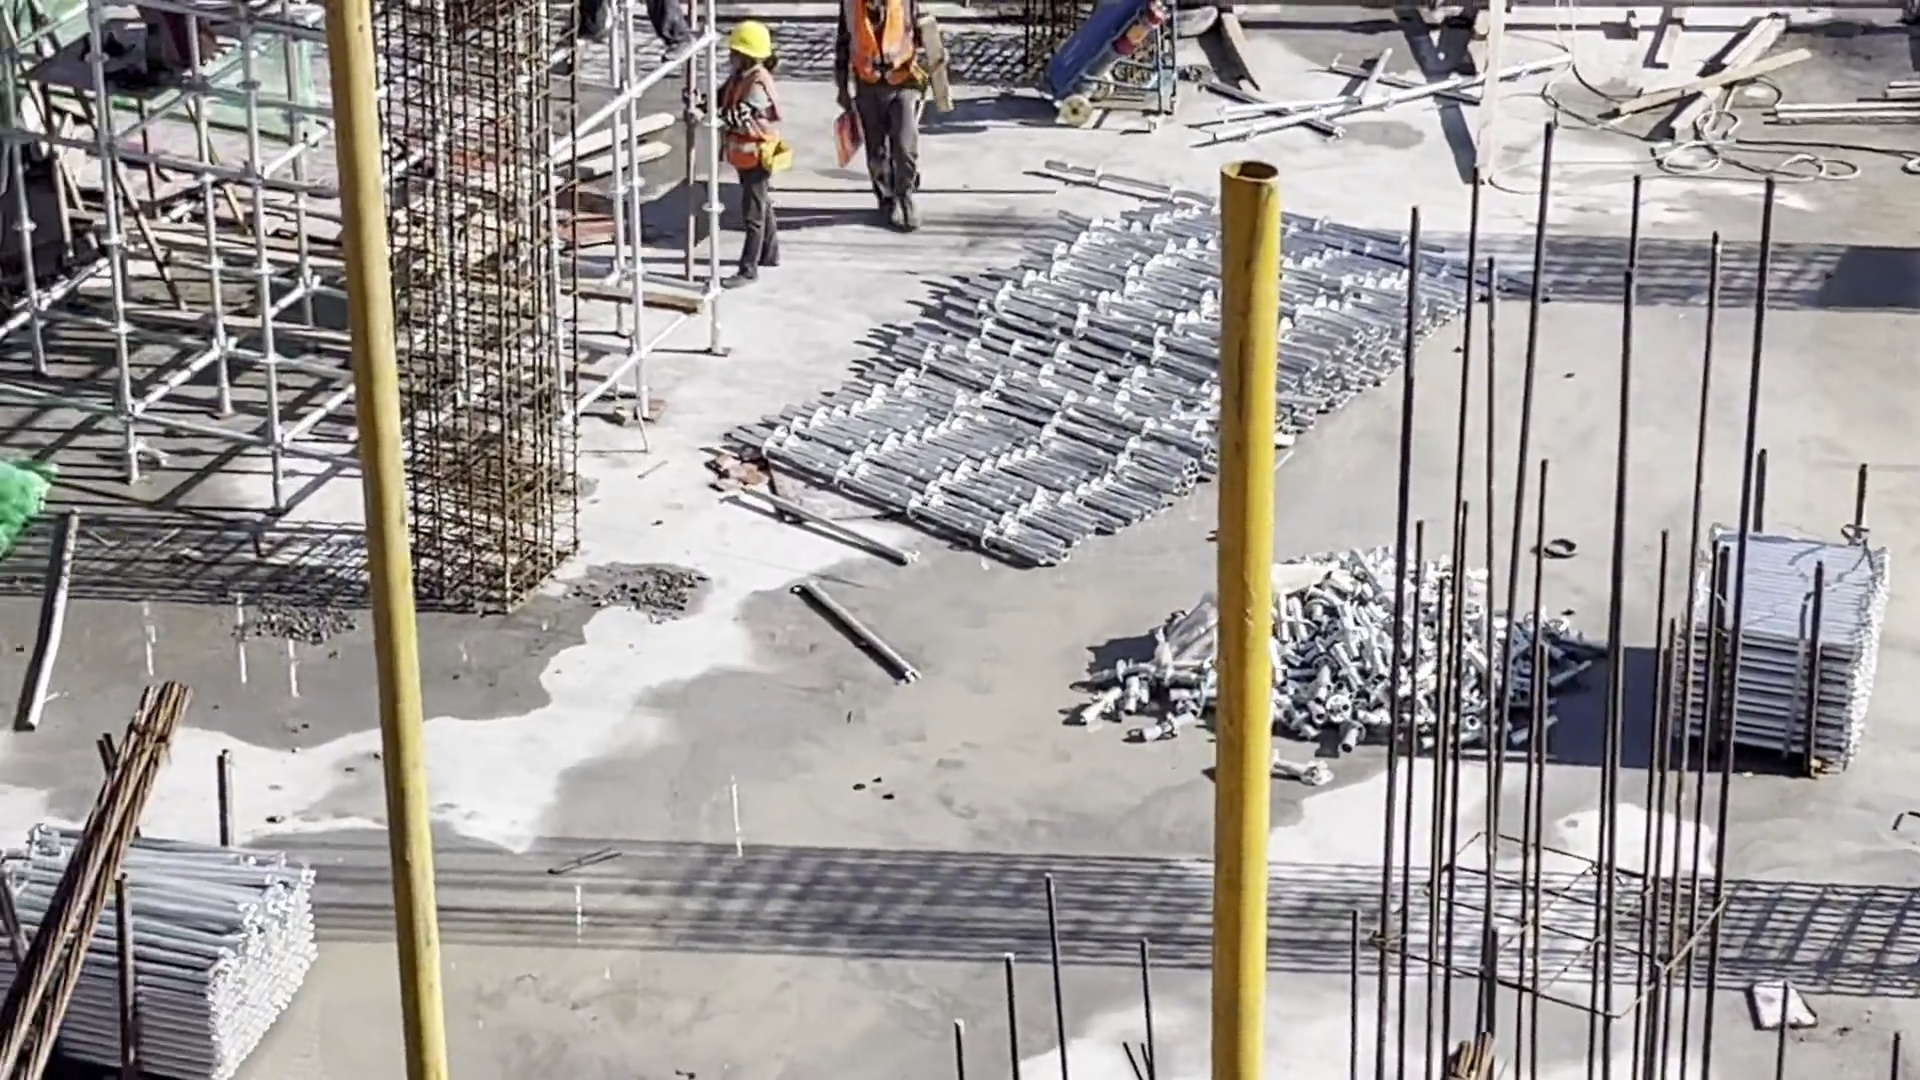helmet: (728, 21, 776, 66)
person: (686, 20, 800, 293), (829, 6, 949, 243)
scaffold: (732, 189, 1502, 563), (9, 822, 315, 1080), (1681, 529, 1887, 774)
vest: (718, 66, 787, 169), (846, 5, 913, 82)
